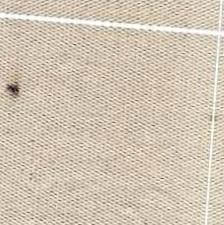stain: (2, 79, 23, 103)
